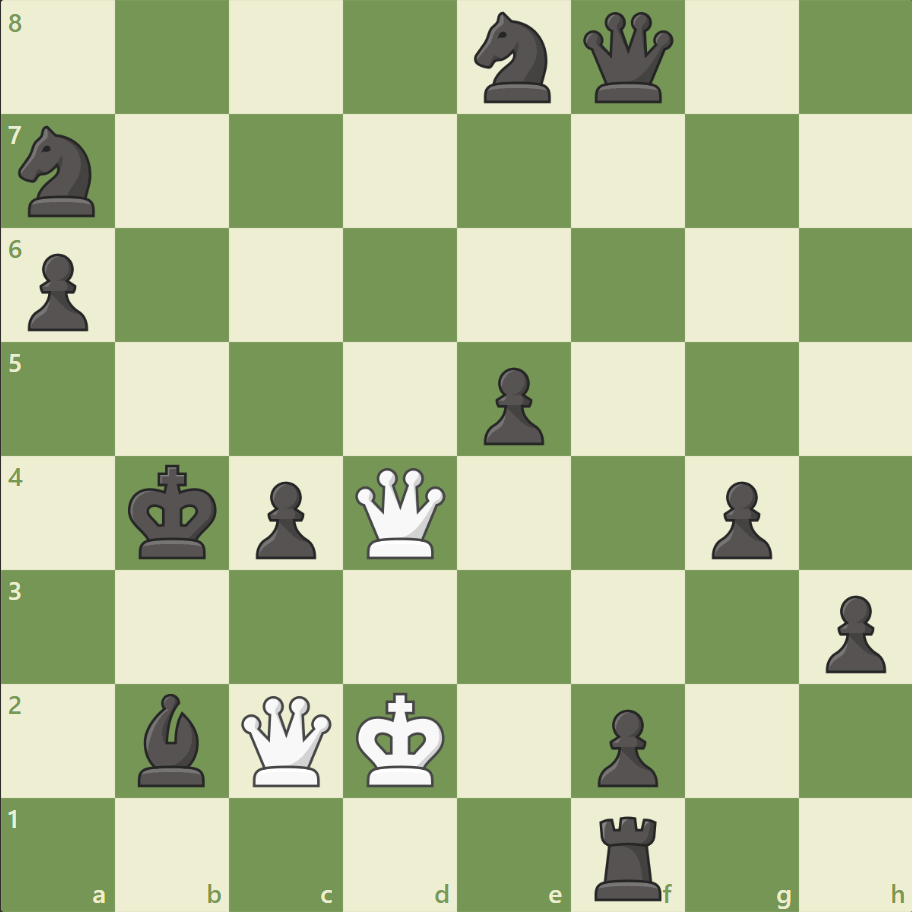K: (351, 685, 451, 793)
Q: (351, 463, 450, 562), (237, 690, 336, 789)
b: (131, 687, 215, 790)
k: (124, 458, 224, 566)
n: (465, 7, 562, 110), (11, 121, 108, 223)
p: (20, 246, 95, 337), (474, 359, 549, 450), (247, 473, 322, 564), (701, 473, 776, 564), (815, 586, 889, 677), (588, 700, 662, 791)
q: (578, 9, 677, 108)
r: (587, 806, 670, 904)
